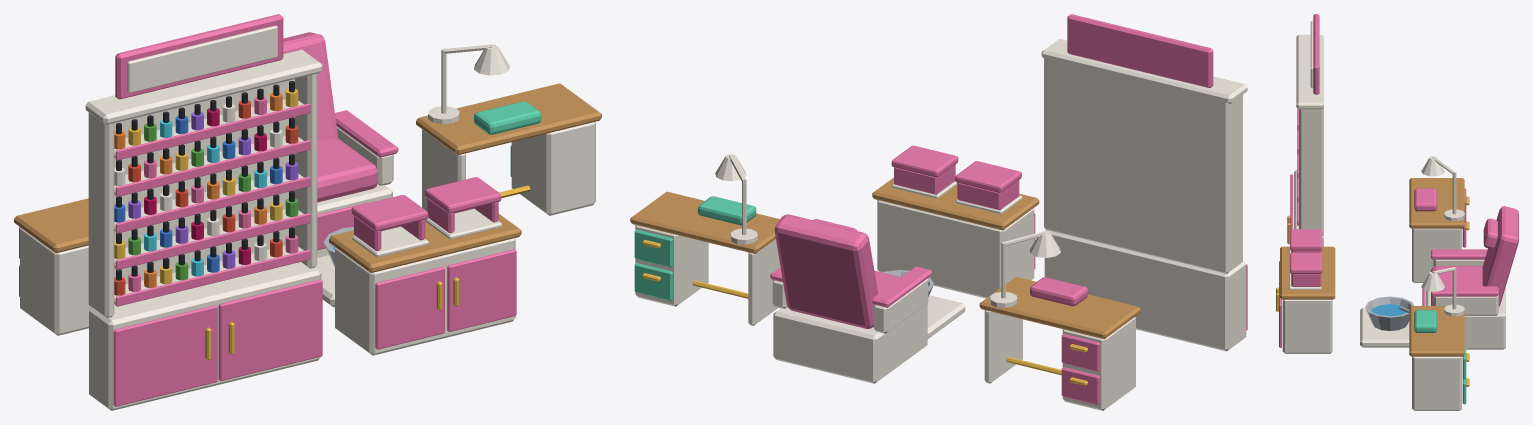
Rendered from low-poly-nail-salon.glb.
The picture shows the model from 3 angles, left to right: view 1: azimuth 30°, elevation 25°; view 2: azimuth 150°, elevation 25°; view 3: azimuth 270°, elevation 25°; orthographic projection. The views are drawn at different scales.
Visible parts, largest first — view 1: PolishRack_Cream, PolishRack_PaintPink, ManicureTable_Mint_Cream, DryingStation_Cream, PolishRack_Door_Left, PolishRack_Door_Right, PedicureChair_PaintPink, ManicureTable_Pink_Cream, ManicureTable_Mint_Wood, DryingStation_PaintPink, DryingStation_Door_Right, DryingStation_Door_Left (+16 smaller); view 2: PolishRack_Cream, DryingStation_Cream, PedicureChair_PaintPink, PedicureChair_Cream, ManicureTable_Pink_Cream, PolishRack_PaintPink, ManicureTable_Mint_Cream, DryingStation_PaintPink, ManicureTable_Pink_Wood, ManicureTable_Mint_Wood, DryingStation_Wood, ManicureTable_Pink_PaintPink (+5 smaller); view 3: PolishRack_Cream, PedicureChair_PaintPink, PedicureChair_Cream, ManicureTable_Mint_Cream, DryingStation_Cream, ManicureTable_Pink_Cream, ManicureTable_Mint_Wood, ManicureTable_Pink_Wood, DryingStation_PaintPink, DryingStation_Wood, PedicureChair_Metal, PolishRack_PaintPink (+3 smaller).
Boxes of the visible parts, x1=… form: PolishRack_Cream: x1=85, y1=25, x2=322, y2=410; PolishRack_PaintPink: x1=115, y1=14, x2=310, y2=306; ManicureTable_Mint_Cream: x1=422, y1=44, x2=595, y2=215; DryingStation_Cream: x1=335, y1=208, x2=515, y2=355; PolishRack_Door_Left: x1=113, y1=305, x2=217, y2=406; PolishRack_Door_Right: x1=218, y1=279, x2=322, y2=380; PedicureChair_PaintPink: x1=283, y1=32, x2=398, y2=202; ManicureTable_Pink_Cream: x1=20, y1=228, x2=91, y2=335; ManicureTable_Mint_Wood: x1=416, y1=83, x2=601, y2=154; DryingStation_PaintPink: x1=351, y1=177, x2=501, y2=250; DryingStation_Door_Right: x1=447, y1=249, x2=516, y2=331; DryingStation_Door_Left: x1=375, y1=266, x2=444, y2=349; PolishRack_Cream: x1=1041, y1=39, x2=1247, y2=351; DryingStation_Cream: x1=877, y1=181, x2=1034, y2=298; PedicureChair_PaintPink: x1=770, y1=214, x2=932, y2=328; PedicureChair_Cream: x1=772, y1=279, x2=965, y2=383; ManicureTable_Pink_Cream: x1=984, y1=231, x2=1135, y2=410; PolishRack_PaintPink: x1=1067, y1=14, x2=1213, y2=87; ManicureTable_Mint_Cream: x1=635, y1=154, x2=780, y2=325; DryingStation_PaintPink: x1=891, y1=145, x2=1021, y2=209; ManicureTable_Pink_Wood: x1=979, y1=277, x2=1140, y2=339; ManicureTable_Mint_Wood: x1=630, y1=191, x2=779, y2=253; DryingStation_Wood: x1=872, y1=177, x2=1039, y2=230; ManicureTable_Pink_PaintPink: x1=1030, y1=277, x2=1088, y2=306; PolishRack_Cream: x1=1294, y1=20, x2=1323, y2=246; PedicureChair_PaintPink: x1=1431, y1=206, x2=1518, y2=306; PedicureChair_Cream: x1=1360, y1=259, x2=1505, y2=349; ManicureTable_Mint_Cream: x1=1412, y1=267, x2=1464, y2=410; DryingStation_Cream: x1=1282, y1=248, x2=1332, y2=353; ManicureTable_Pink_Cream: x1=1412, y1=156, x2=1464, y2=282; ManicureTable_Mint_Wood: x1=1409, y1=306, x2=1464, y2=356; ManicureTable_Pink_Wood: x1=1409, y1=178, x2=1464, y2=228; DryingStation_PaintPink: x1=1290, y1=229, x2=1322, y2=286; DryingStation_Wood: x1=1280, y1=246, x2=1335, y2=299; PedicureChair_Metal: x1=1365, y1=296, x2=1414, y2=330; PolishRack_PaintPink: x1=1297, y1=14, x2=1319, y2=225.
Bounding box in the file's own units: 17.58 × 9.77 × 9.68.
11 materials, 1 textured.
